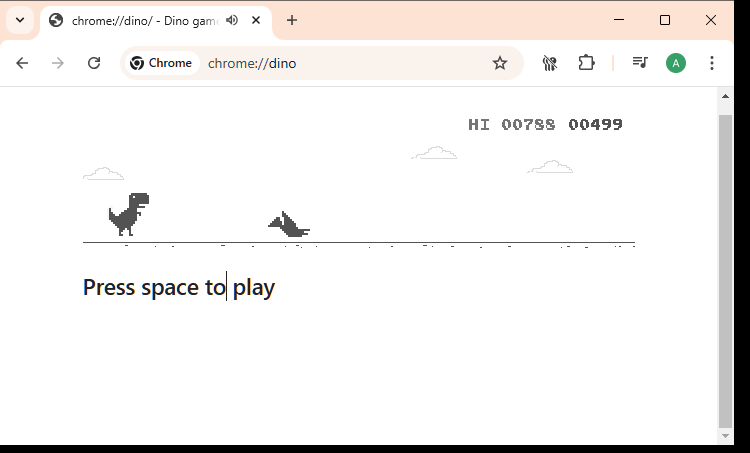bird: (267, 210, 310, 238)
dino: (108, 192, 150, 236)
